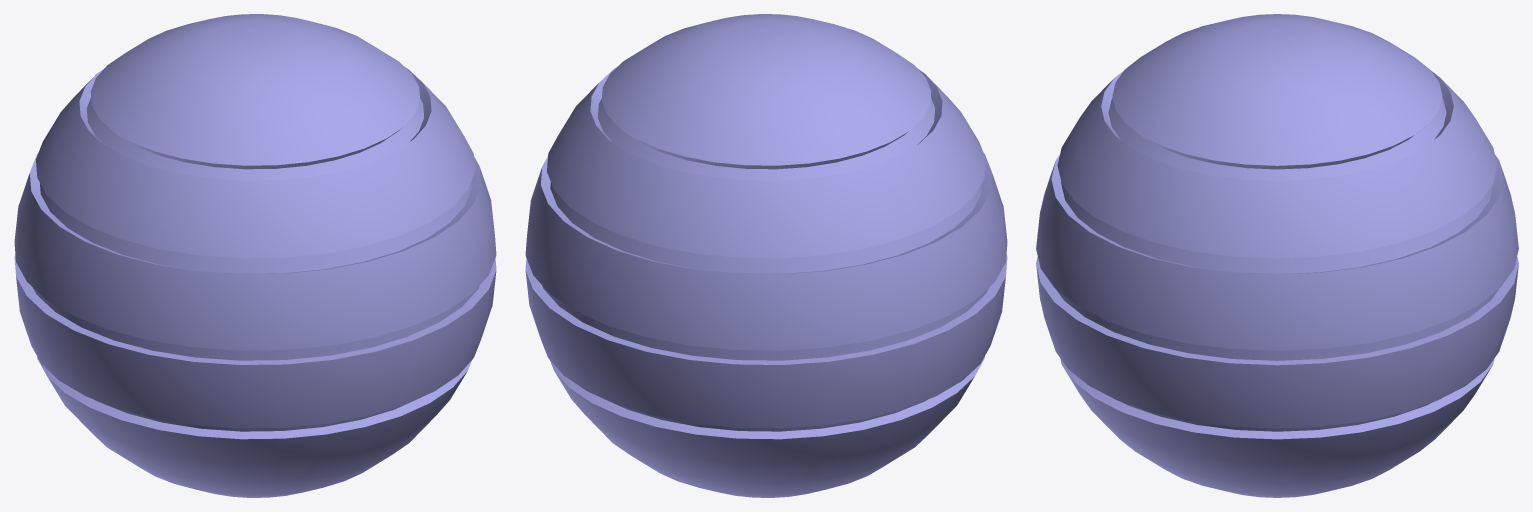
File: MSphere_msh.fbx
The picture shows the model from 3 angles, left to right: view 1: azimuth 30°, elevation 25°; view 2: azimuth 150°, elevation 25°; view 3: azimuth 270°, elevation 25°; orthographic projection.
Visible parts, largest first — view 1: MSphere_msh; view 2: MSphere_msh; view 3: MSphere_msh.
Part boxes in pixels (x1,y1,x2,y2): MSphere_msh: (14,14,496,497); MSphere_msh: (525,14,1007,497); MSphere_msh: (1036,14,1518,497).
Bounding box in the file's own units: 241 × 240 × 241.
